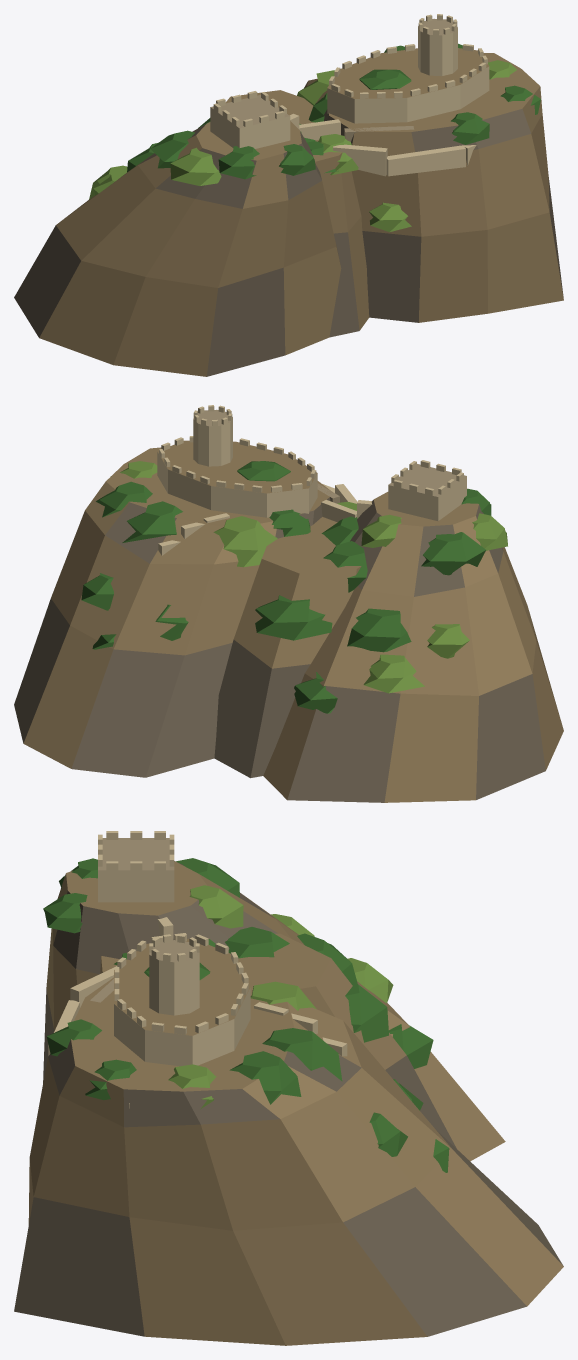
File: santalessio.glb
The picture shows the model from 3 angles, top to bottom: view 1: azimuth 30°, elevation 25°; view 2: azimuth 150°, elevation 25°; view 3: azimuth 270°, elevation 25°; orthographic projection. The views are drawn at different scales.
Parts seen in each view (by area): view 1: POI_santalessio; view 2: POI_santalessio; view 3: POI_santalessio.
Boxes of the visible parts, box(x1,y1,x2,y2) form: POI_santalessio: box(14, 14, 563, 376); POI_santalessio: box(14, 405, 563, 802); POI_santalessio: box(14, 831, 563, 1345).
Bounding box in the file's own units: 250 × 122 × 187.
